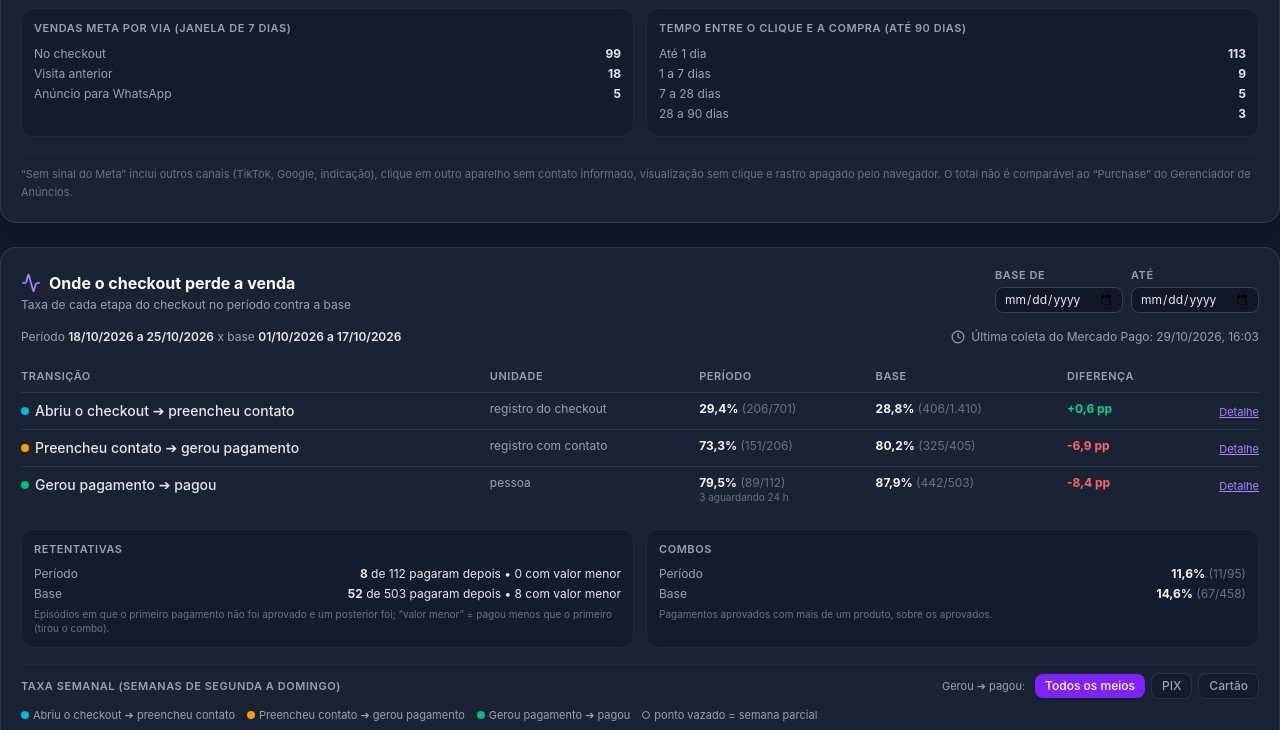
Test: LeadsDashboard — Onde o checkout perde a venda (T4) › detalhe por loja e por meio
(page scrolled)
Expected: the text "Por loja" is not shown
Click the button named "Detalhe de Preencheu contato ➔ gerou pagamento" at (1239, 450), box [1219,442,1259,458]
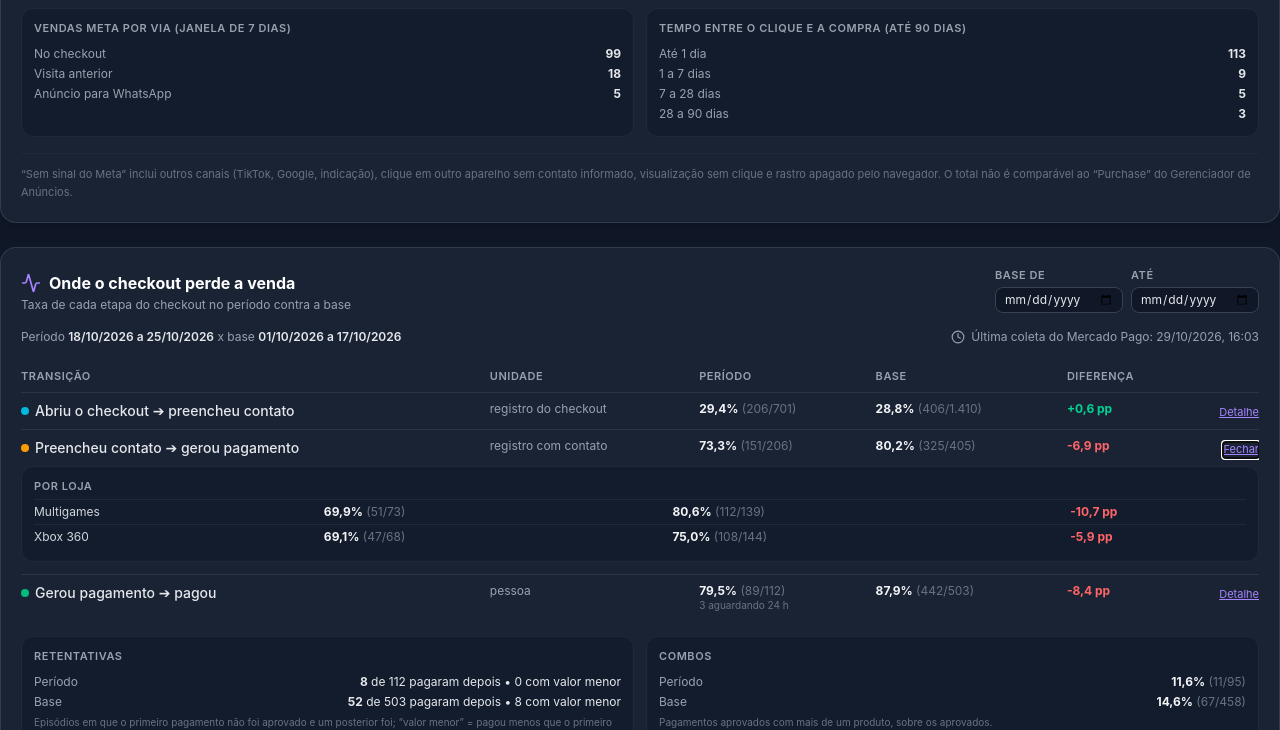
Result: the text "Xbox 360" shows "69,1% (47/68)" at [34,524,1246,549]
Result: the text "Xbox 360" shows "75,0% (108/144)" at [34,524,1246,549]
Result: the text "Xbox 360" shows "-5,9 pp" at [1070,529,1113,544]
Click the button named "Detalhe de Gerou pagamento ➔ pagou" at (1239, 595), box [1219,587,1259,603]
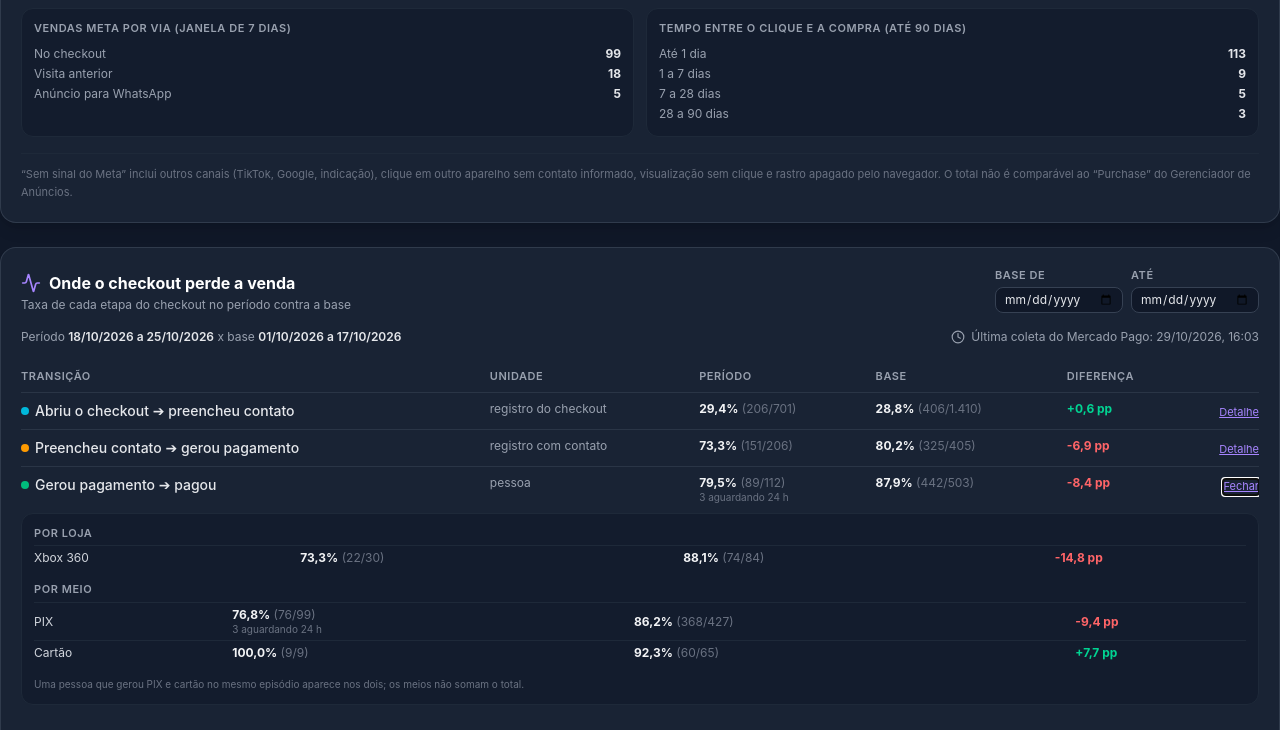
Result: the text "Por loja" is shown once at [34,526,92,540]
Result: the text "Xbox 360" shows "-14,8 pp" at [1055,550,1103,565]
Result: the text "Por meio" is shown at [34,582,92,596]
